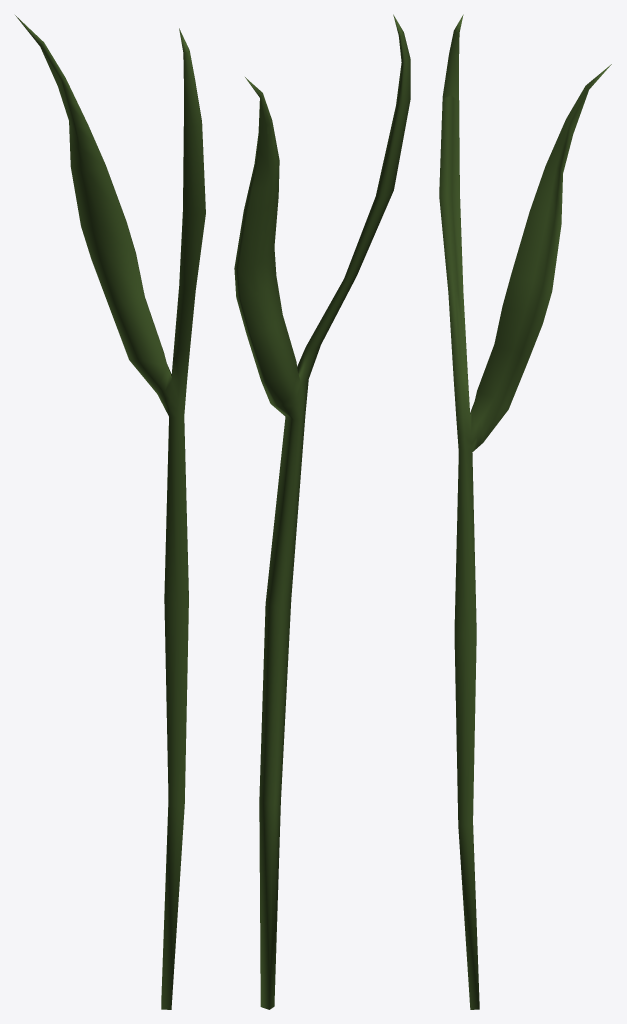
Rendered from grass2.fbx.
3 renders of one model, left to right at view 1: azimuth 90°, elevation 25°; view 2: azimuth 150°, elevation 25°; view 3: azimuth 270°, elevation 25°, orthographic. The views are drawn at different scales.
Parts seen in each view (by area): view 1: Cube.001; view 2: Cube.001; view 3: Cube.001.
Part boxes in pixels (x1,y1,x2,y2): Cube.001: (15,15,205,1009); Cube.001: (234,14,410,1009); Cube.001: (439,14,611,1009).
Bounding box in the file's own units: 165 × 1161 × 194.
